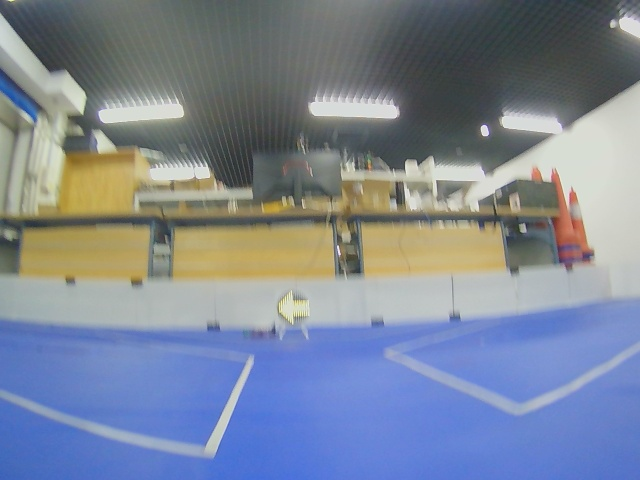left_yellow: (274, 288, 312, 329)
